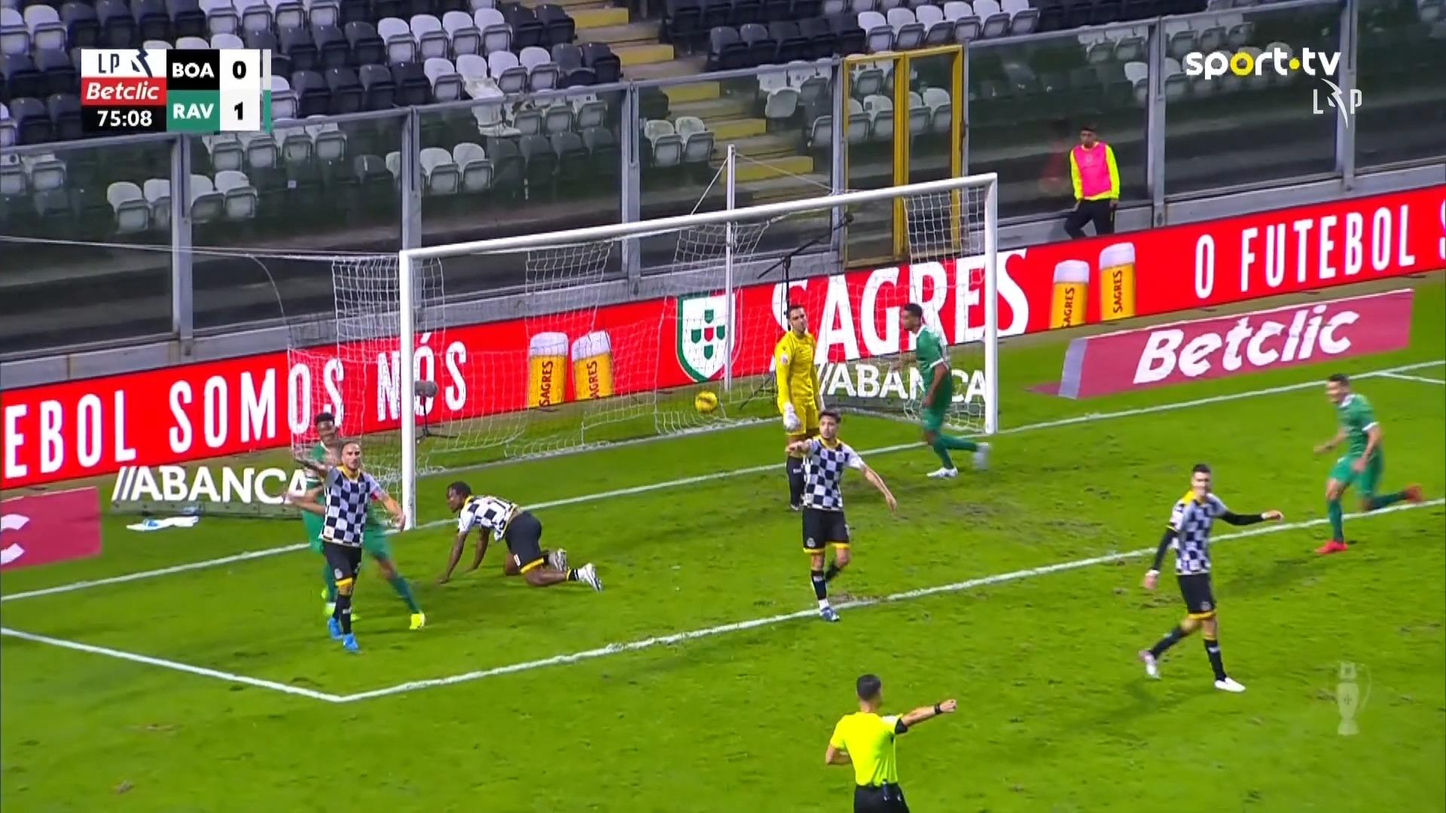ball: (694, 390, 717, 413)
goalkeeper: (770, 303, 822, 512)
player: (1137, 461, 1283, 693), (281, 439, 424, 653), (786, 406, 898, 622), (1310, 371, 1423, 555), (435, 480, 602, 593), (824, 673, 956, 811), (894, 301, 991, 479), (291, 411, 362, 629)
